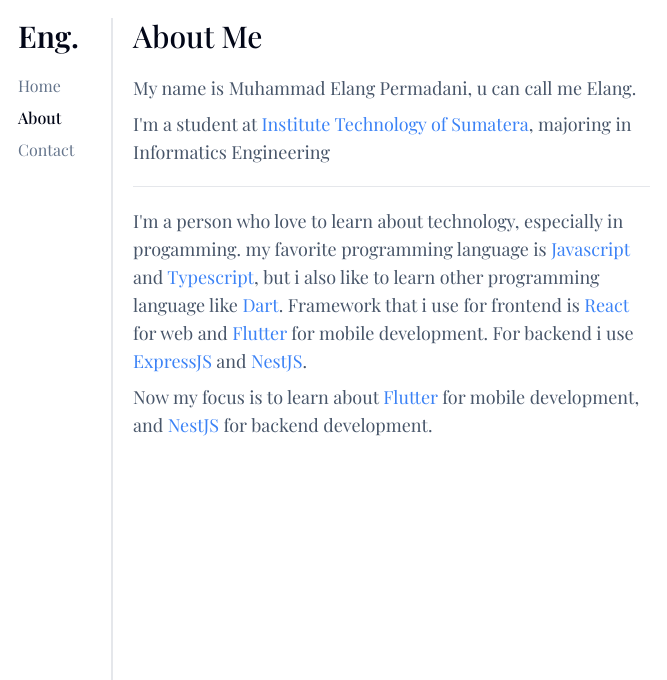
App › should render the contact page
Click the link "Contact". click: click(46, 150)
box: [18,138,74,162]
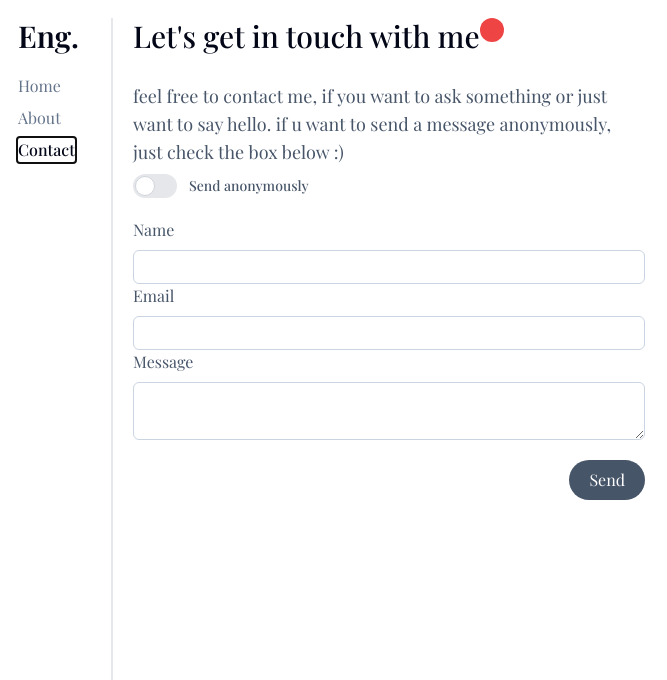
Result: the heading "Let's get in touch with me !" is shown at [133,16,504,56]
